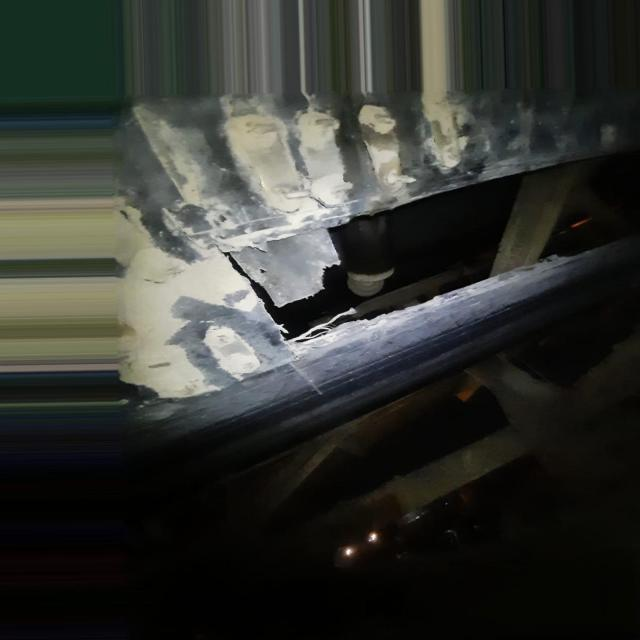Hole: (220, 154, 638, 359)
